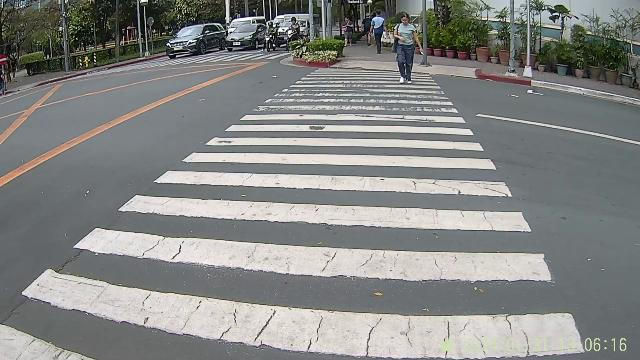car: (166, 20, 264, 52), (166, 21, 234, 53)
